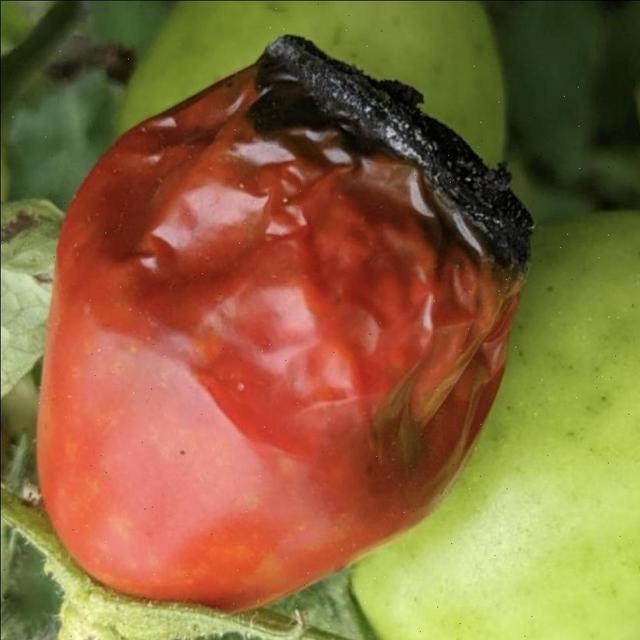Blossom End Rot Fruit: (140, 23, 361, 189)
